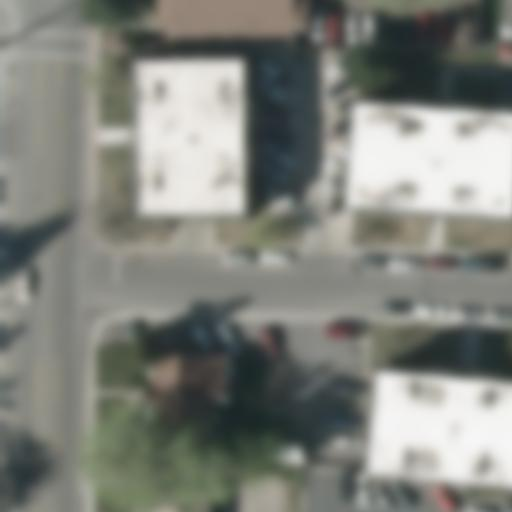Cars: (241, 40, 303, 220), (302, 0, 487, 58), (317, 63, 370, 222), (336, 237, 512, 280), (372, 286, 512, 331), (323, 461, 430, 512), (176, 302, 251, 365), (209, 234, 301, 281), (0, 248, 49, 326), (312, 363, 391, 411), (319, 407, 382, 466), (314, 308, 378, 348), (254, 311, 302, 364), (427, 469, 475, 512)
